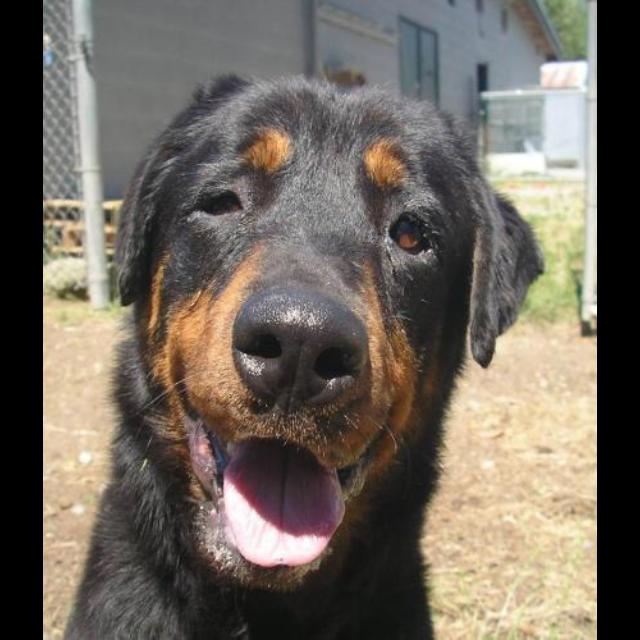rottweiler: (59, 71, 546, 640)
